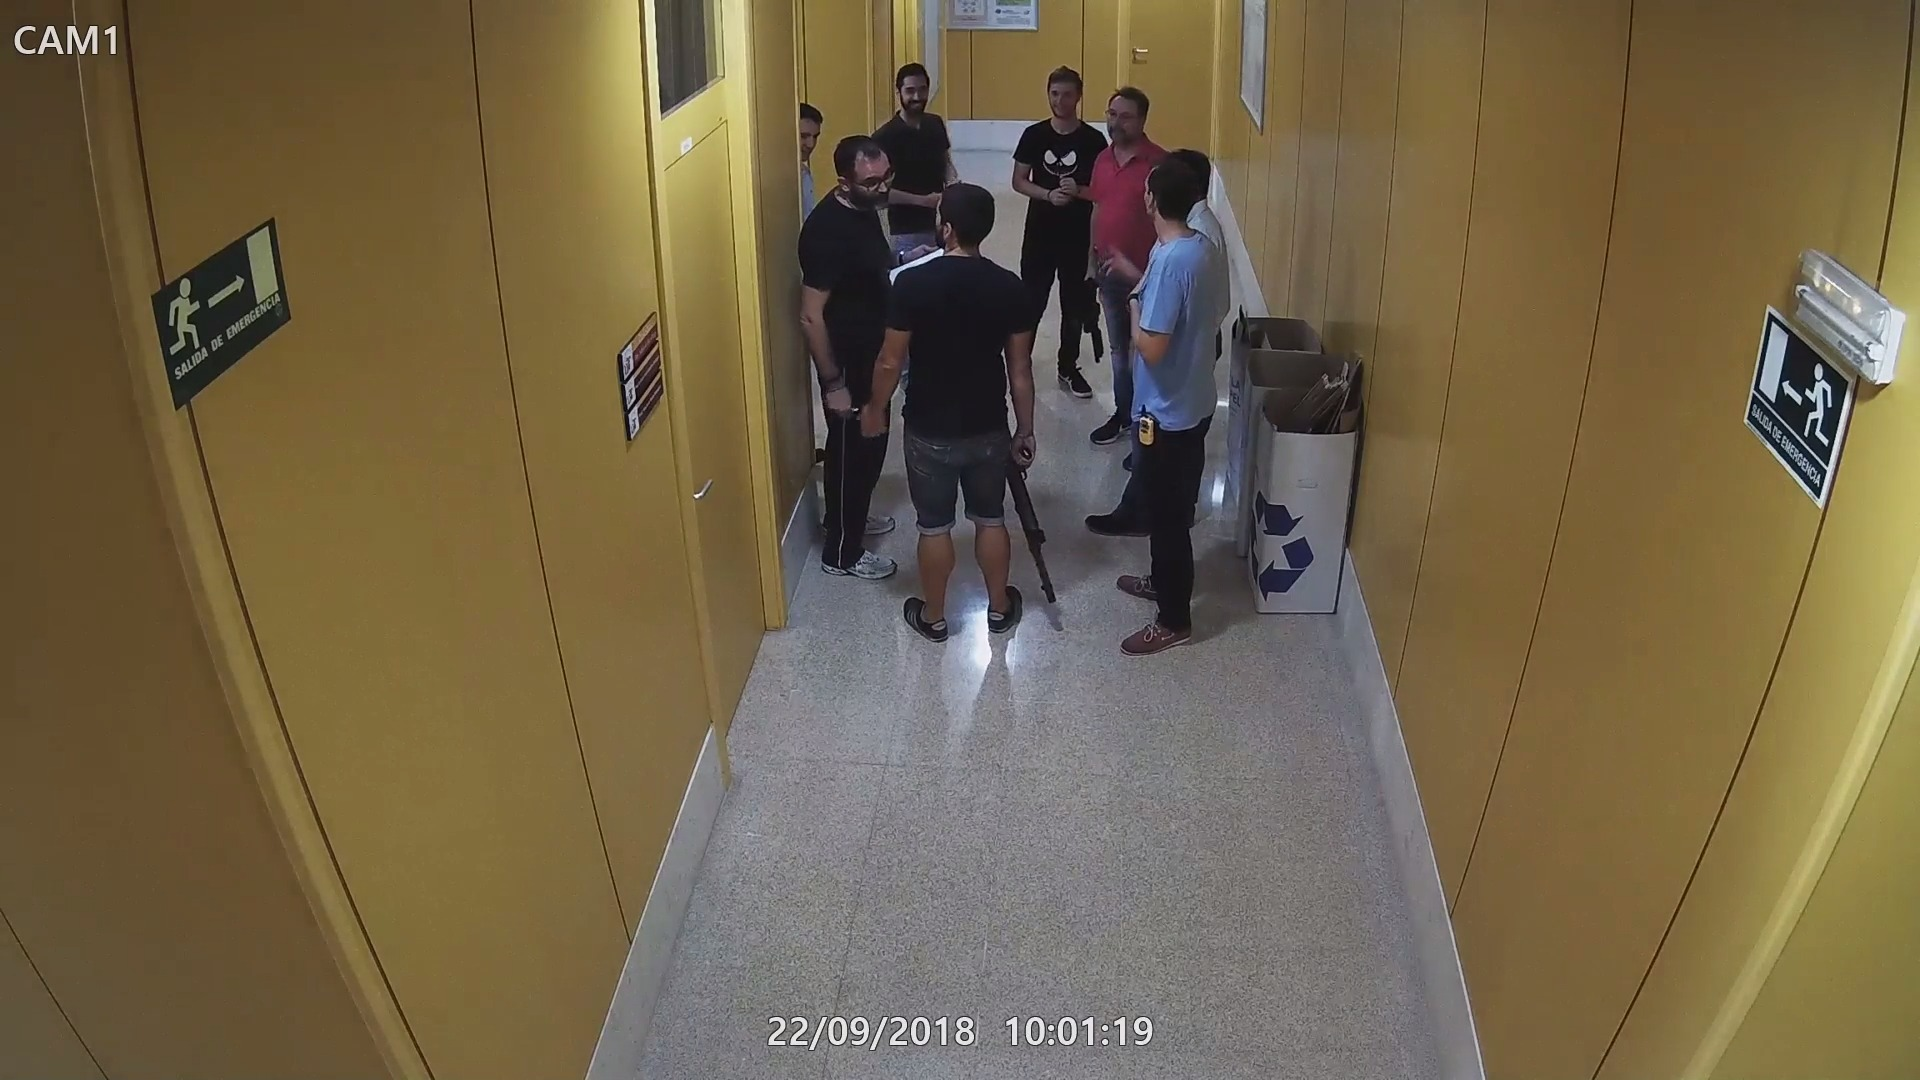Handgun: (1087, 243, 1114, 297)
Short_rifle: (1000, 433, 1060, 608), (1081, 278, 1112, 359)
